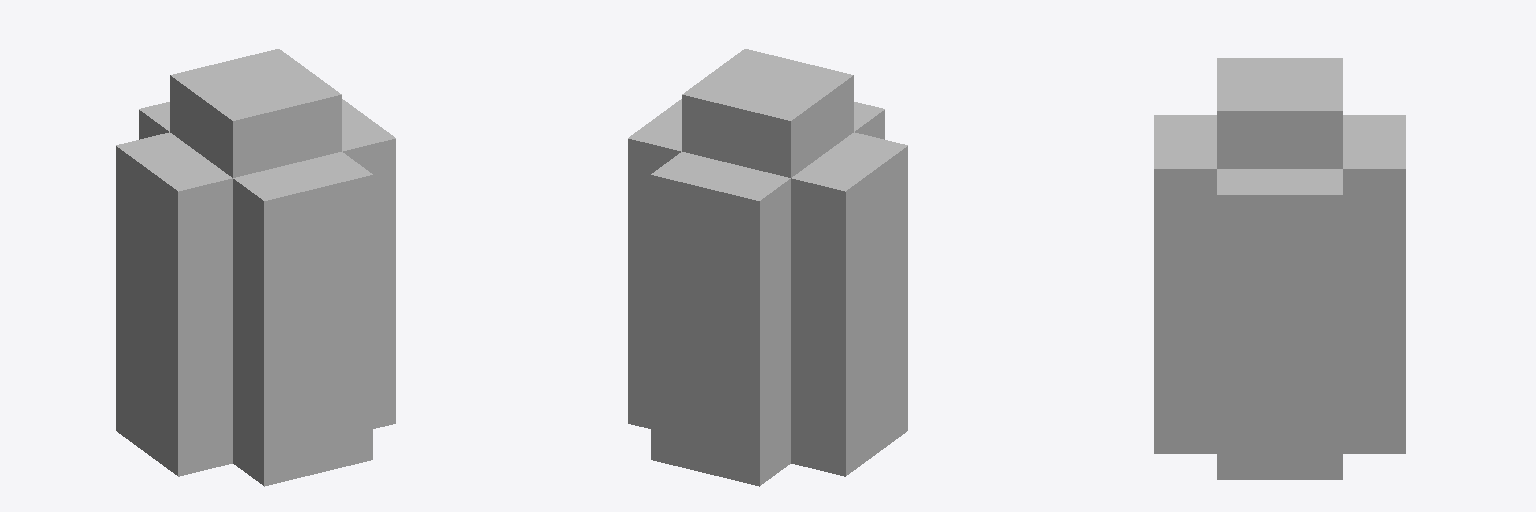
Rendered from Bunker - Free Sample-67-Jar_Tall_Red-9.obj.
3 renders of one model, left to right at view 1: azimuth 30°, elevation 25°; view 2: azimuth 150°, elevation 25°; view 3: azimuth 270°, elevation 25°, orthographic.
Visible parts, largest first — view 1: Jar_Tall_Red-9; view 2: Jar_Tall_Red-9; view 3: Jar_Tall_Red-9.
Part boxes in pixels (x1,y1,x2,y2): Jar_Tall_Red-9: (116, 49, 395, 486); Jar_Tall_Red-9: (628, 49, 907, 486); Jar_Tall_Red-9: (1154, 58, 1405, 479).
Size of the model in its own units: 0.08 by 0.12 by 0.08.